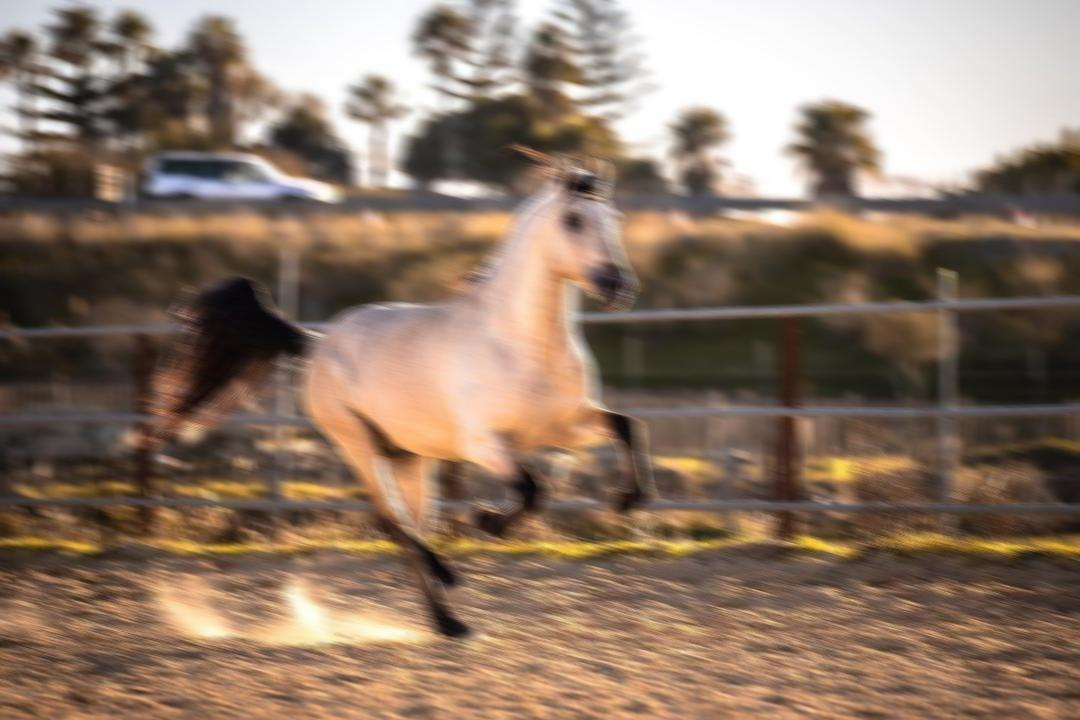horse: (136, 140, 655, 644)
